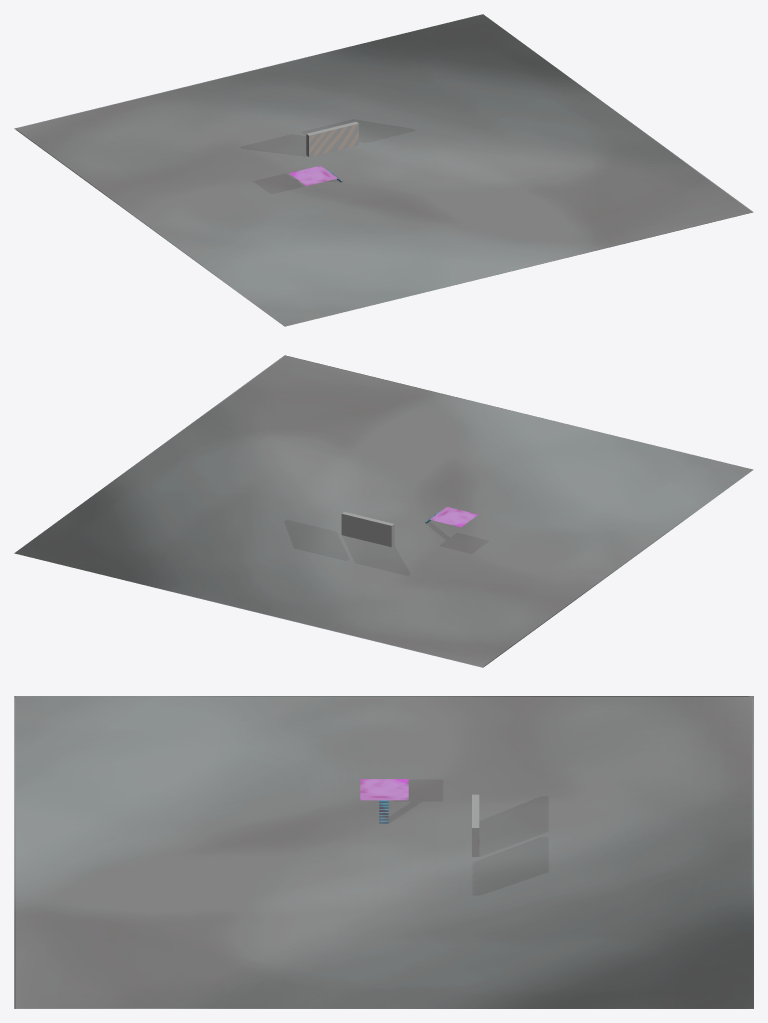
Rendered from StartScenePrev3.obj.
3 views of the same model, one above another, from view 1: azimuth 30°, elevation 25°; view 2: azimuth 150°, elevation 25°; view 3: azimuth 270°, elevation 25° (orthographic). The views are drawn at different scales.
Visible parts, largest first — view 1: Bake; view 2: Bake; view 3: Bake.
Part boxes in pixels (x1,y1,x2,y2): Bake: (14, 14, 753, 326); Bake: (14, 355, 753, 667); Bake: (14, 696, 753, 1008).
Bounding box in the file's own units: 200 × 8.77 × 200.
